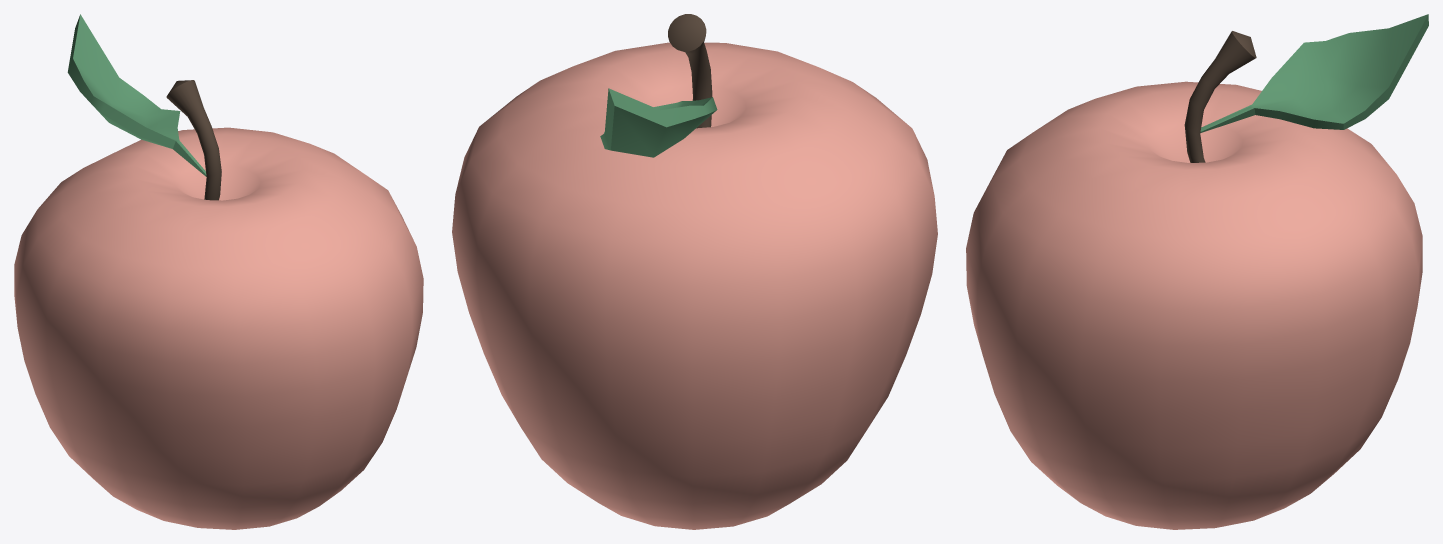
Rendered from apple.fbx.
3 renders of one model, left to right at view 1: azimuth 30°, elevation 25°; view 2: azimuth 150°, elevation 25°; view 3: azimuth 270°, elevation 25°, orthographic. The views are drawn at different scales.
Visible parts, largest first — view 1: apple; view 2: apple; view 3: apple.
Part boxes in pixels (box(x1,y1,x2,y2)): apple: box(14, 14, 423, 529); apple: box(452, 14, 937, 529); apple: box(966, 14, 1428, 529).
Bounding box in the file's own units: 1.22 × 1.39 × 1.25.
